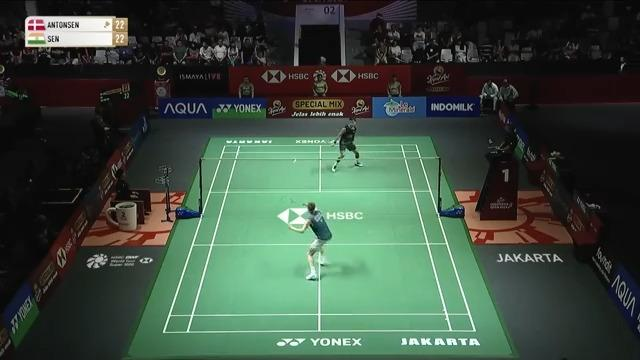Shuttlecock: (292, 157, 300, 165)
